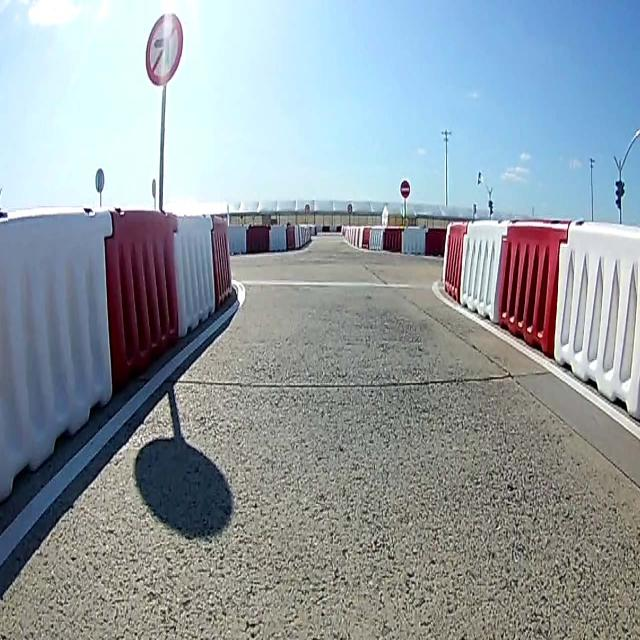girisyok: (400, 181, 410, 199)
soladonulmez: (146, 14, 183, 86)
